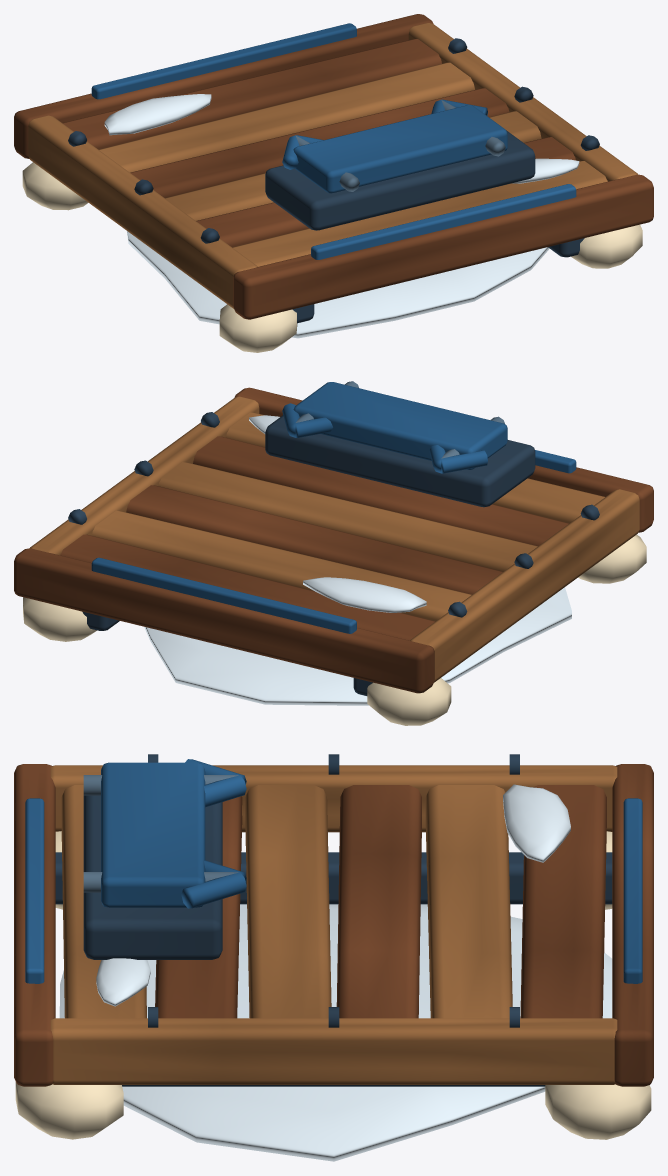
File: pad_output.glb
3 views of the same model, one above another, from view 1: azimuth 30°, elevation 25°; view 2: azimuth 150°, elevation 25°; view 3: azimuth 270°, elevation 25° (orthographic). The views are drawn at different scales.
Visible parts, largest first — view 1: pad_output; view 2: pad_output; view 3: pad_output.
Boxes of the visible parts, x1,y1,x2,y2 form: pad_output: [14, 14, 653, 352]; pad_output: [14, 381, 653, 725]; pad_output: [14, 754, 653, 1161].
Size of the model in its own units: 1.91 by 0.6755 by 1.84.
